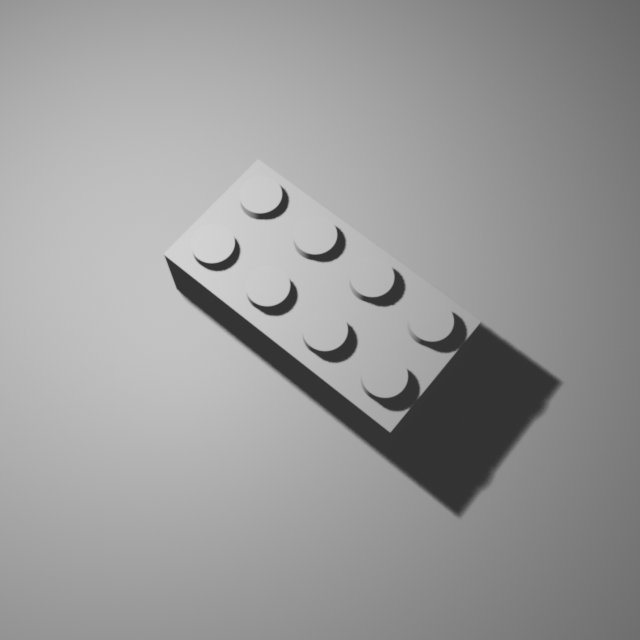lego_2x4: (161, 151, 484, 454)
